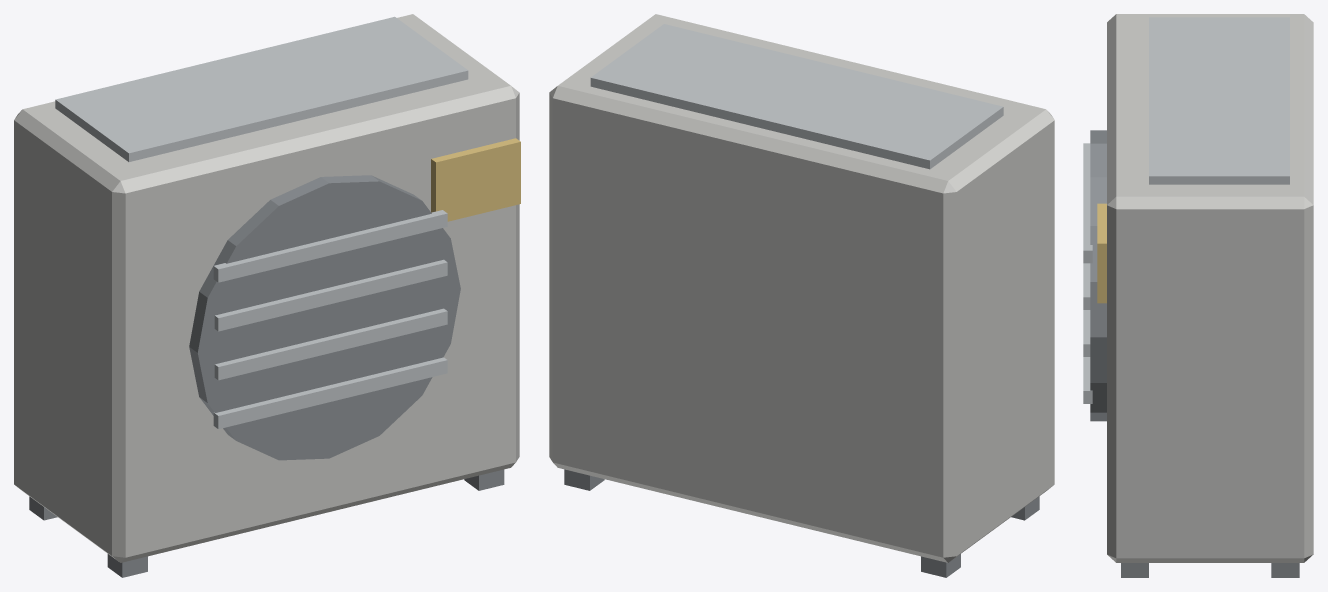
File: P_cold_fan.fbx
The picture shows the model from 3 angles, left to right: view 1: azimuth 30°, elevation 25°; view 2: azimuth 150°, elevation 25°; view 3: azimuth 270°, elevation 25°; orthographic projection. The views are drawn at different scales.
Visible parts, largest first — view 1: P_cold_fan; view 2: P_cold_fan; view 3: P_cold_fan.
Part boxes in pixels (x1,y1,x2,y2): P_cold_fan: (14,14,520,577); P_cold_fan: (549,14,1054,577); P_cold_fan: (1083,14,1313,577).
Bounding box in the file's own units: 0.96 × 0.92 × 0.49.
